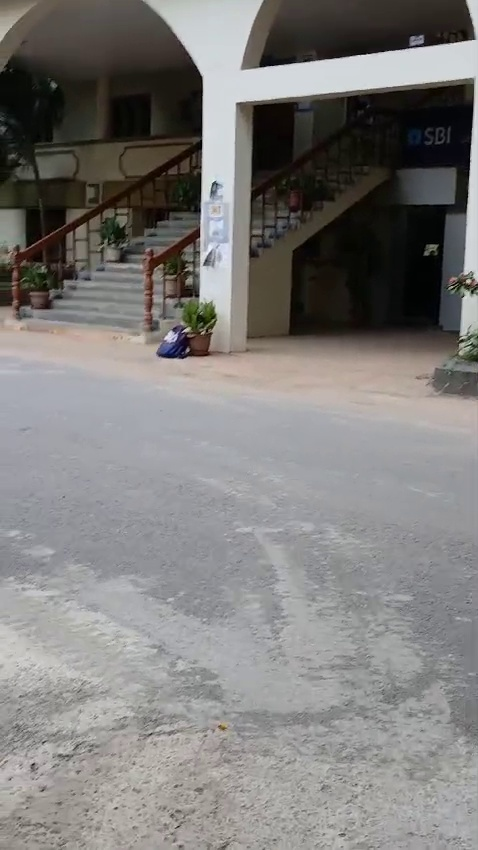bag: (145, 319, 185, 361)
